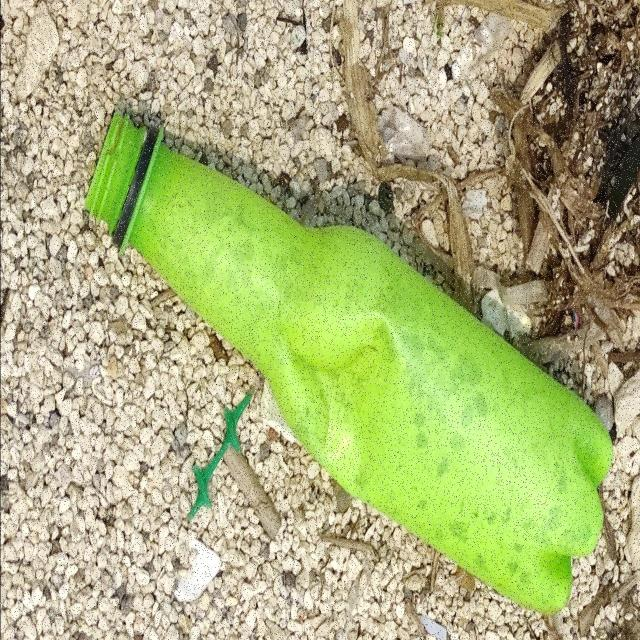plastic_waste: (81, 107, 617, 617)
